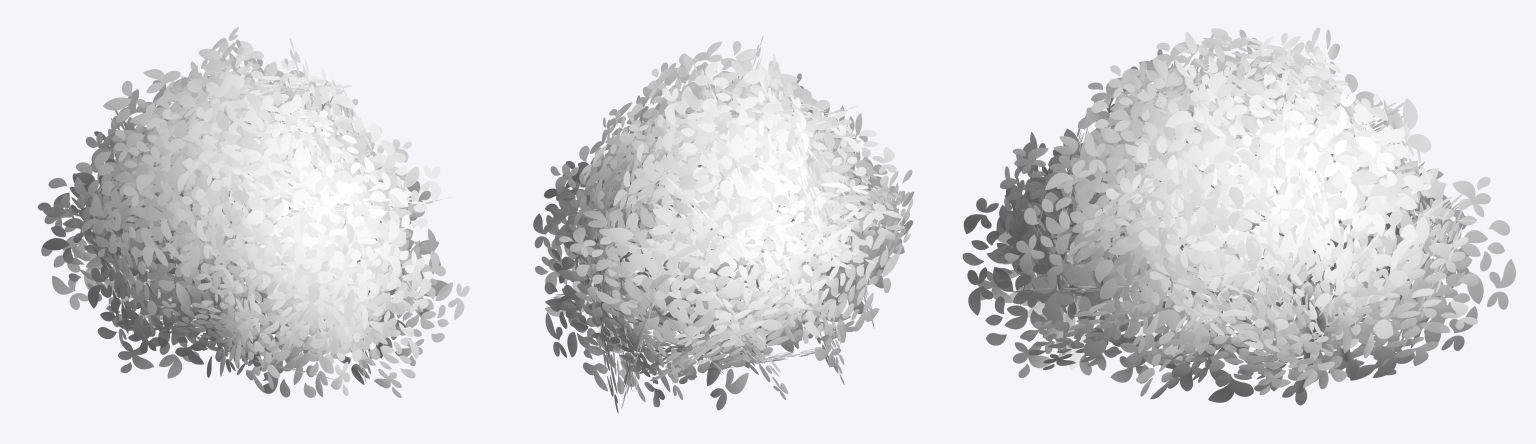
The model's file is Bush_Medium.glb.
3 renders of one model, left to right at view 1: azimuth 30°, elevation 25°; view 2: azimuth 150°, elevation 25°; view 3: azimuth 270°, elevation 25°, orthographic. The views are drawn at different scales.
Visible parts, largest first — view 1: Bush_Medium; view 2: Bush_Medium; view 3: Bush_Medium.
Boxes of the visible parts, box(x1,y1,x2,y2) form: Bush_Medium: box(37, 27, 469, 397); Bush_Medium: box(533, 35, 914, 413); Bush_Medium: box(962, 27, 1515, 405).
Bounding box in the file's own units: 1.75 × 1.5 × 2.16.
Materials: 1 (1 with a texture image).
